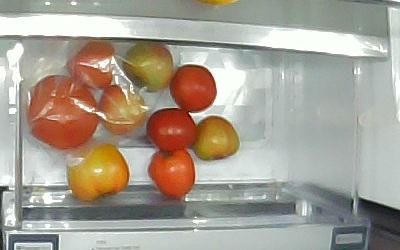tomato: (65, 143, 130, 203), (147, 149, 195, 201), (169, 64, 217, 112), (147, 107, 198, 151), (193, 116, 241, 162)
tomato_vinyl: (27, 74, 97, 149), (122, 42, 174, 93), (99, 86, 148, 134), (67, 41, 114, 90)
